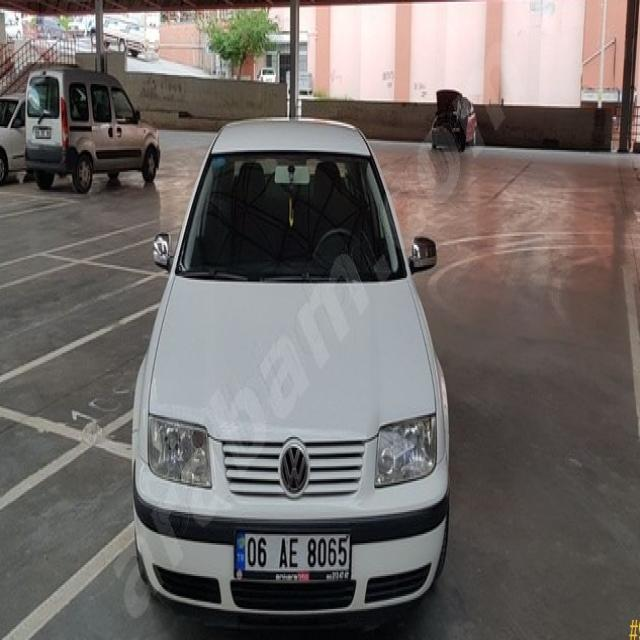license_plate: (233, 532, 351, 572)
